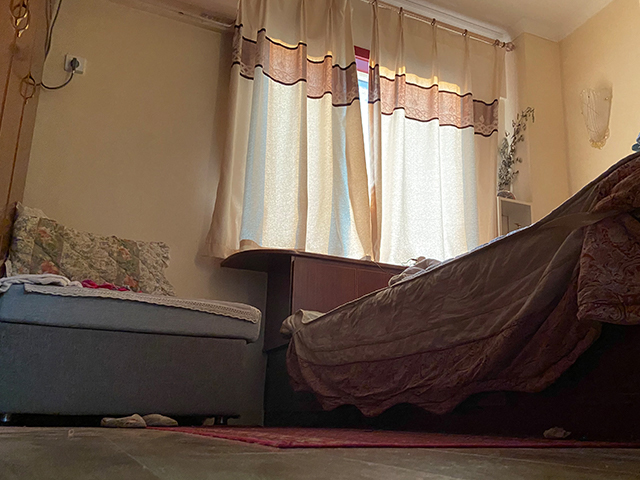bed: (263, 142, 640, 438)
carpet: (154, 426, 639, 449)
curtain: (213, 1, 377, 263), (377, 1, 504, 268)
stool: (1, 272, 263, 428)
